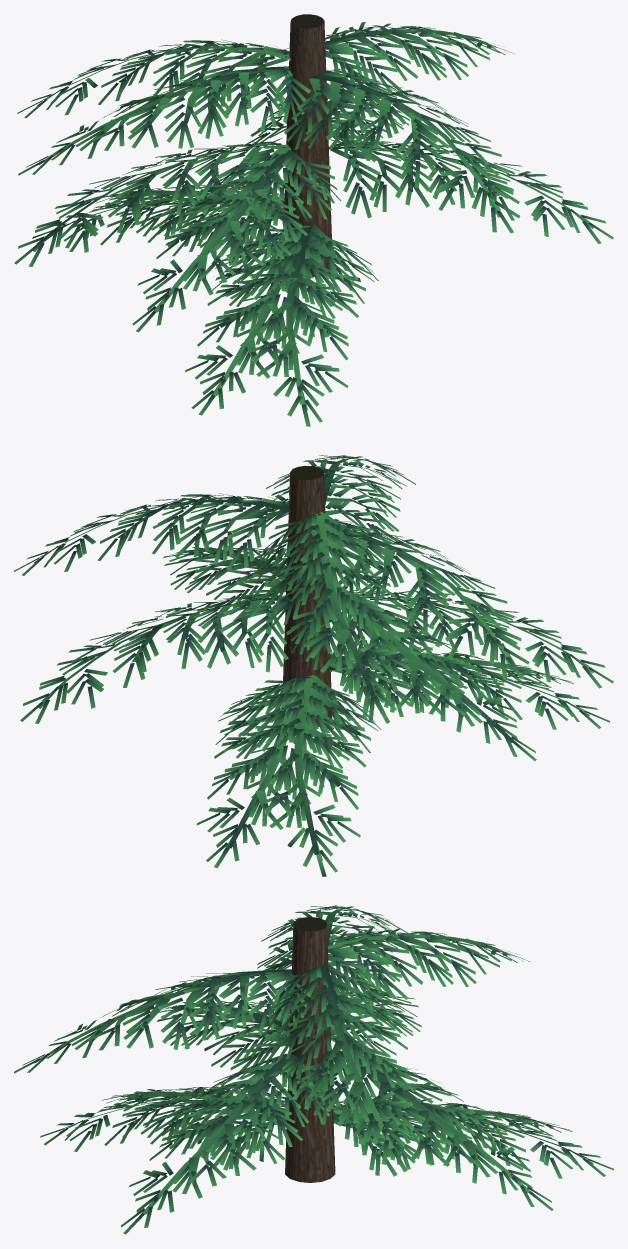
File: ConiferTreeMid.fbx
The picture shows the model from 3 angles, top to bottom: view 1: azimuth 30°, elevation 25°; view 2: azimuth 150°, elevation 25°; view 3: azimuth 270°, elevation 25°; orthographic projection.
Parts seen in each view (by area): view 1: ConiferTreeMid; view 2: ConiferTreeMid; view 3: ConiferTreeMid.
Boxes of the visible parts, bbox=[...] form: ConiferTreeMid: bbox=[14, 14, 613, 426]; ConiferTreeMid: bbox=[14, 455, 613, 876]; ConiferTreeMid: bbox=[14, 905, 613, 1234].
Size of the model in its own units: 624 by 323 by 631.
Materials: 1 (1 with a texture image).
